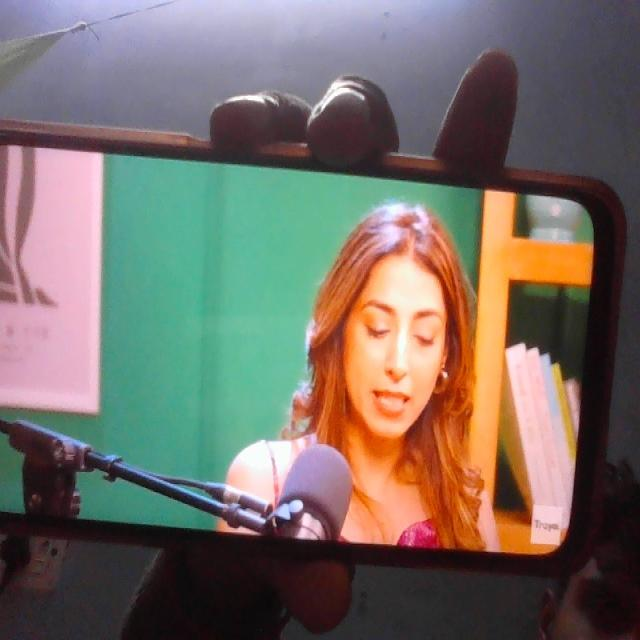fake: (330, 221, 450, 448)
